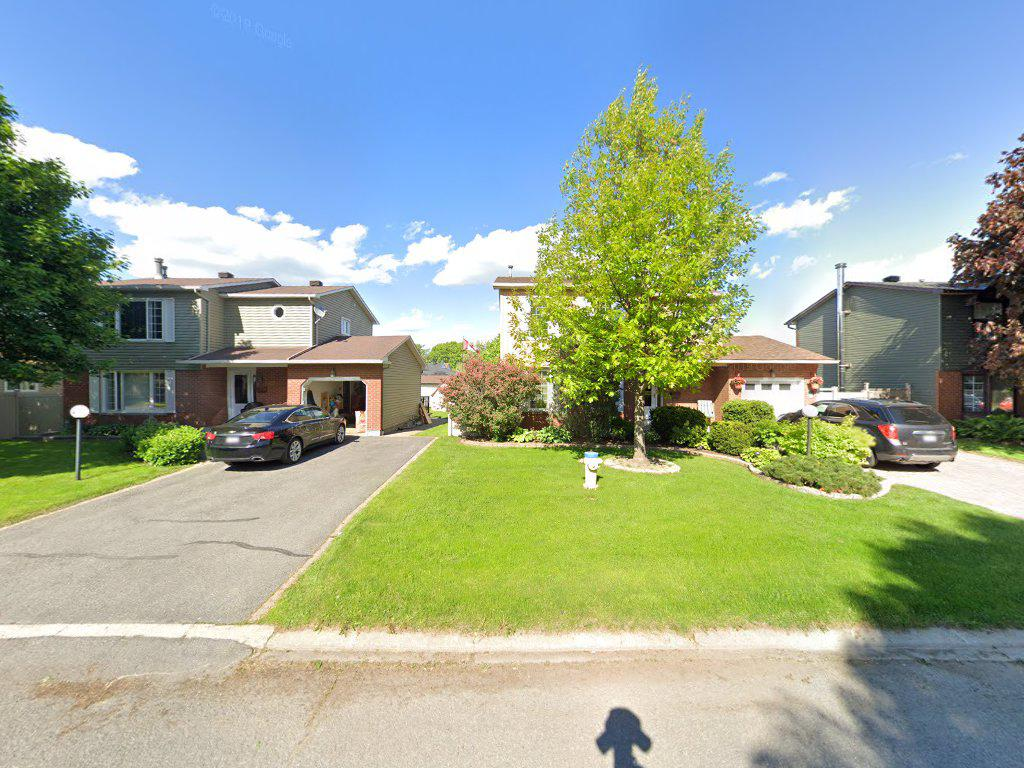trunk: (632, 372, 649, 478)
